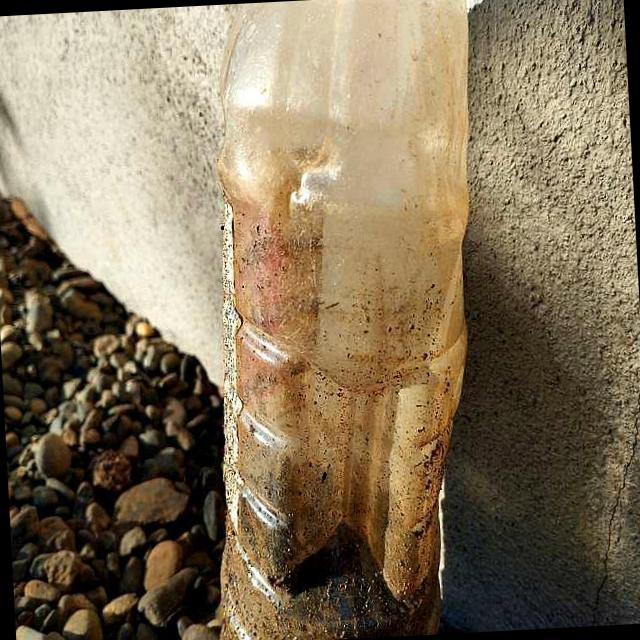Non-biodegradable: (178, 1, 507, 640)
